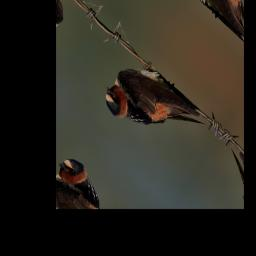Swallow: (97, 45, 211, 174)
